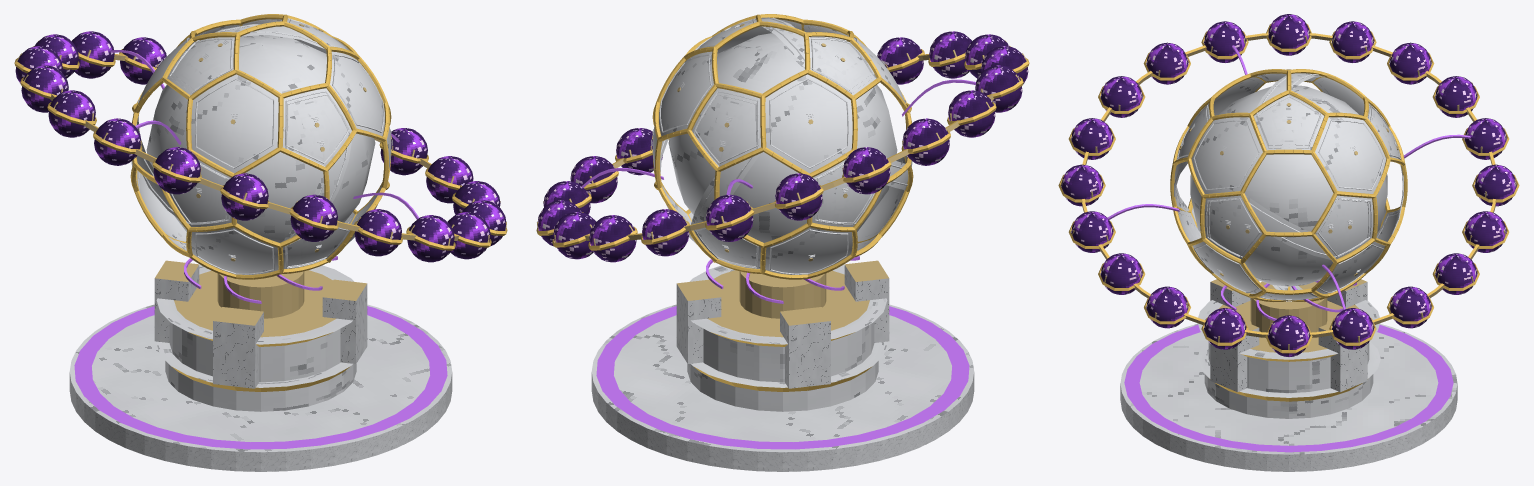
File: twins_ship_shield_generator.obj
The picture shows the model from 3 angles, left to right: view 1: azimuth 30°, elevation 25°; view 2: azimuth 150°, elevation 25°; view 3: azimuth 270°, elevation 25°; orthographic projection. The views are drawn at different scales.
Visible parts, largest first — view 1: body, core, ring, fx; view 2: body, core, ring, fx; view 3: body, core, ring, fx.
Part boxes in pixels (bbox=[...]): body: bbox=[69, 14, 452, 471]; core: bbox=[14, 31, 507, 262]; ring: bbox=[74, 306, 447, 449]; fx: bbox=[110, 50, 419, 303]; body: bbox=[591, 14, 974, 471]; core: bbox=[536, 31, 1029, 262]; ring: bbox=[596, 306, 969, 449]; fx: bbox=[581, 79, 975, 303]; body: bbox=[1120, 69, 1457, 471]; core: bbox=[1058, 14, 1519, 356]; ring: bbox=[1124, 325, 1453, 452]; fx: bbox=[1107, 45, 1470, 320].
Bounding box in the file's own units: 1.11 × 0.9291 × 1.2.
